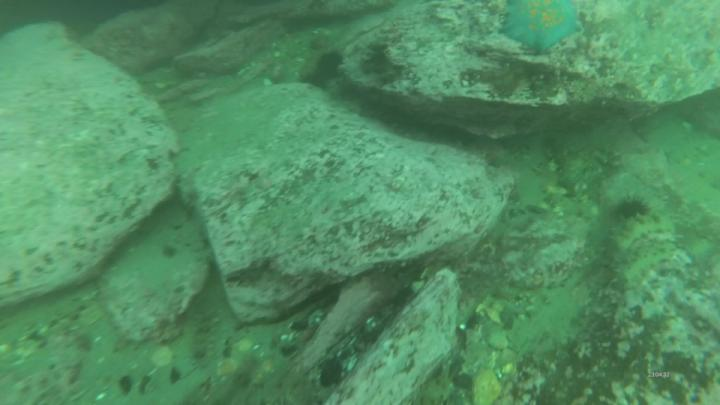echinus: (615, 198, 645, 220), (319, 54, 344, 76)
holothurian: (622, 217, 671, 250), (623, 254, 671, 283)
starfish: (506, 1, 580, 48)
